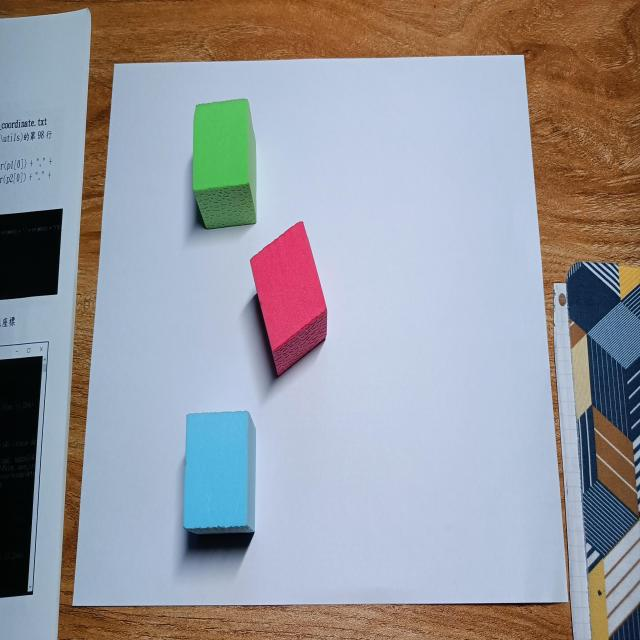BLUE: (183, 414, 256, 531)
GREEN: (194, 98, 257, 232)
RED: (250, 221, 328, 382)
